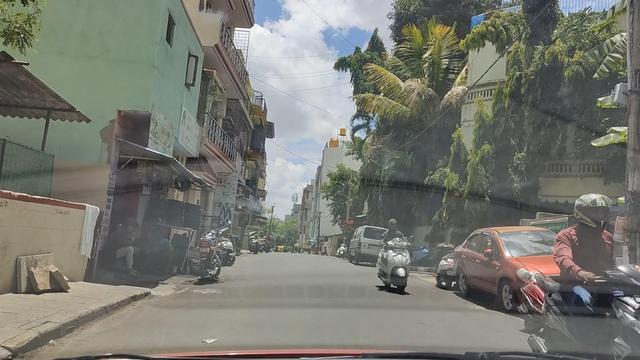LMV: (552, 193, 630, 353), (382, 220, 414, 297)
